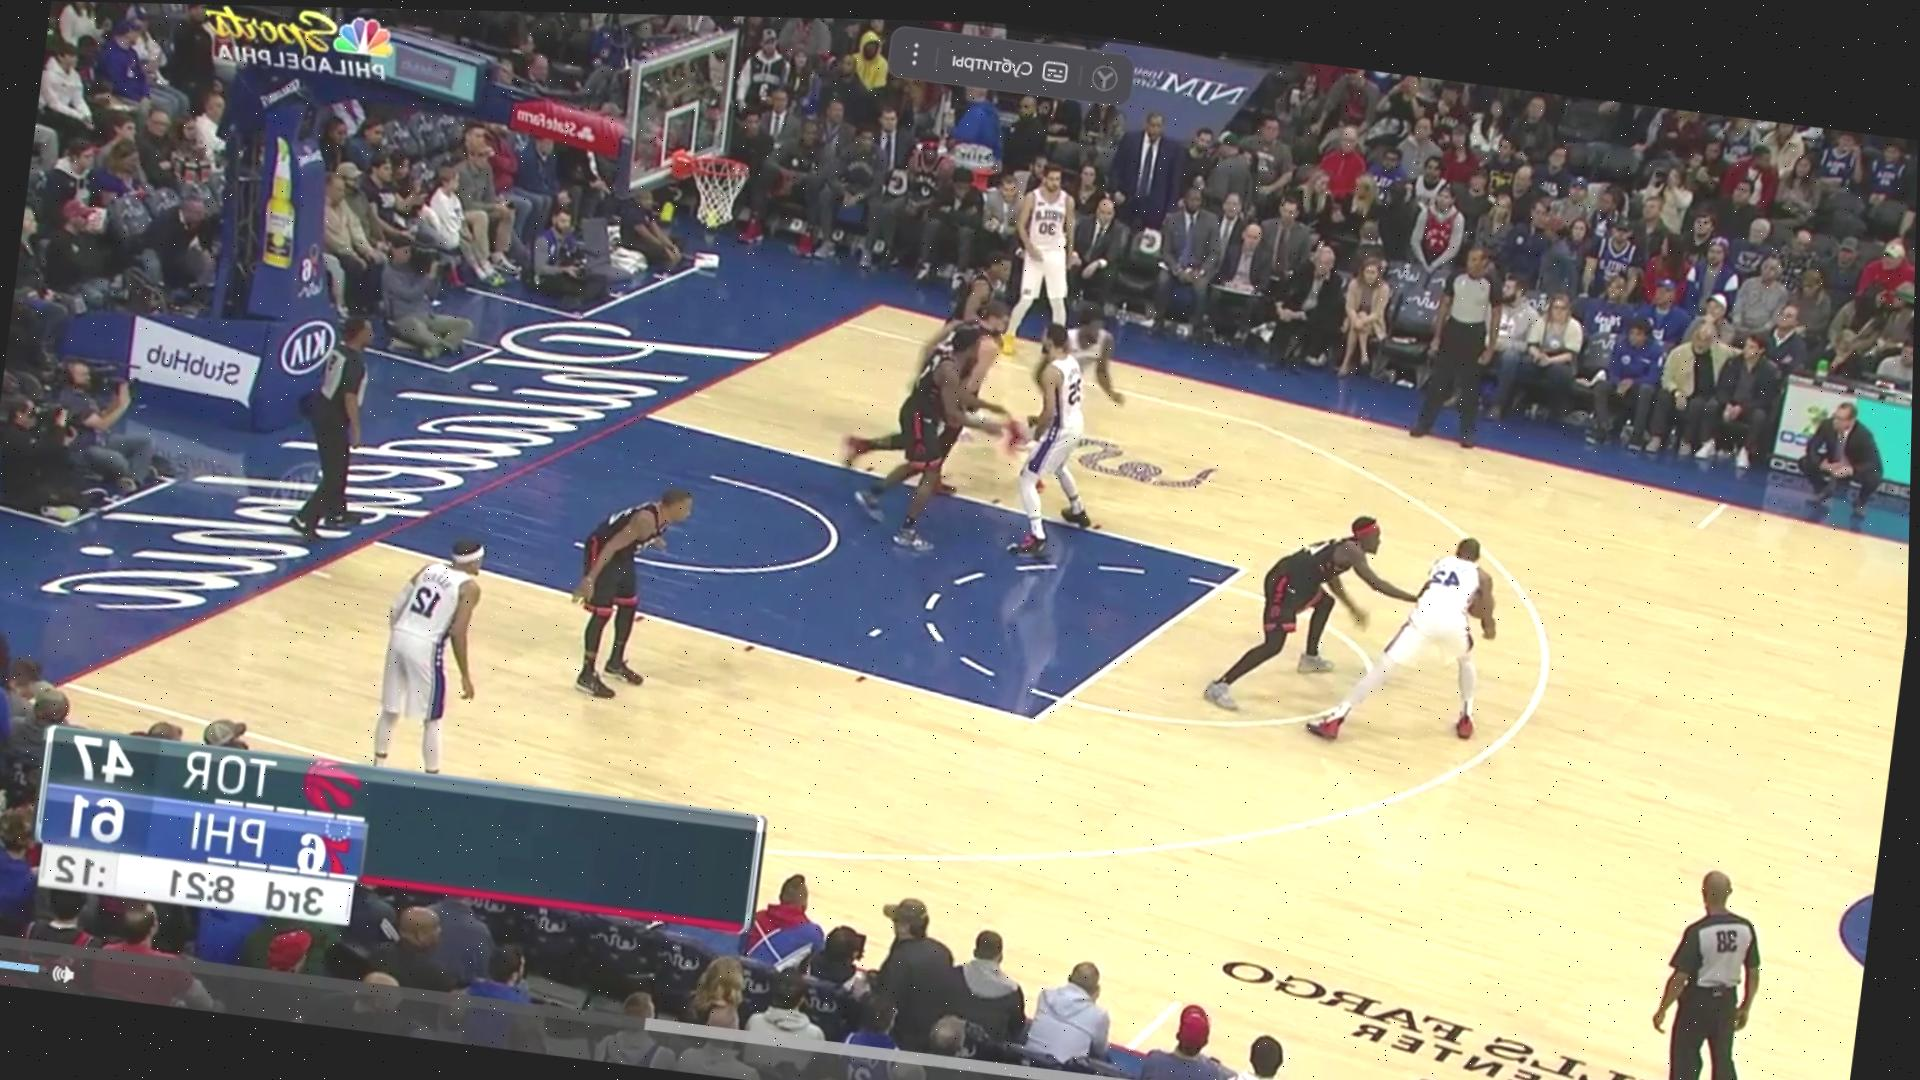no_foul: (873, 290, 1091, 534)
